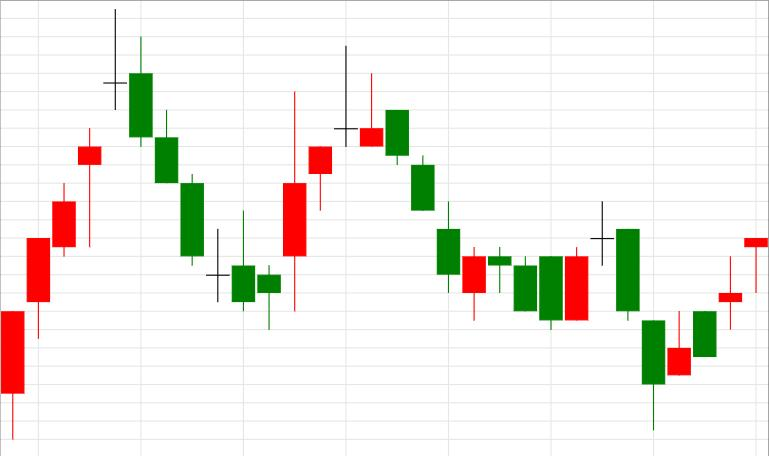three_black_crows_fall: (1, 9, 204, 439), (282, 46, 459, 312)
